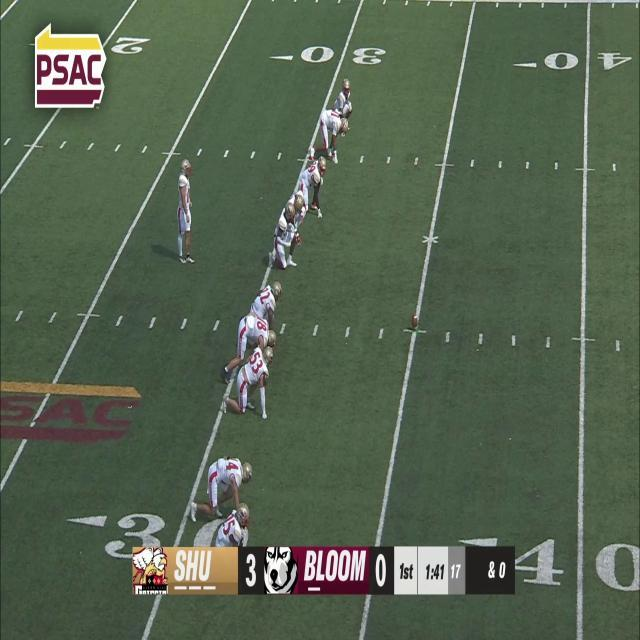football: (411, 312, 419, 332)
